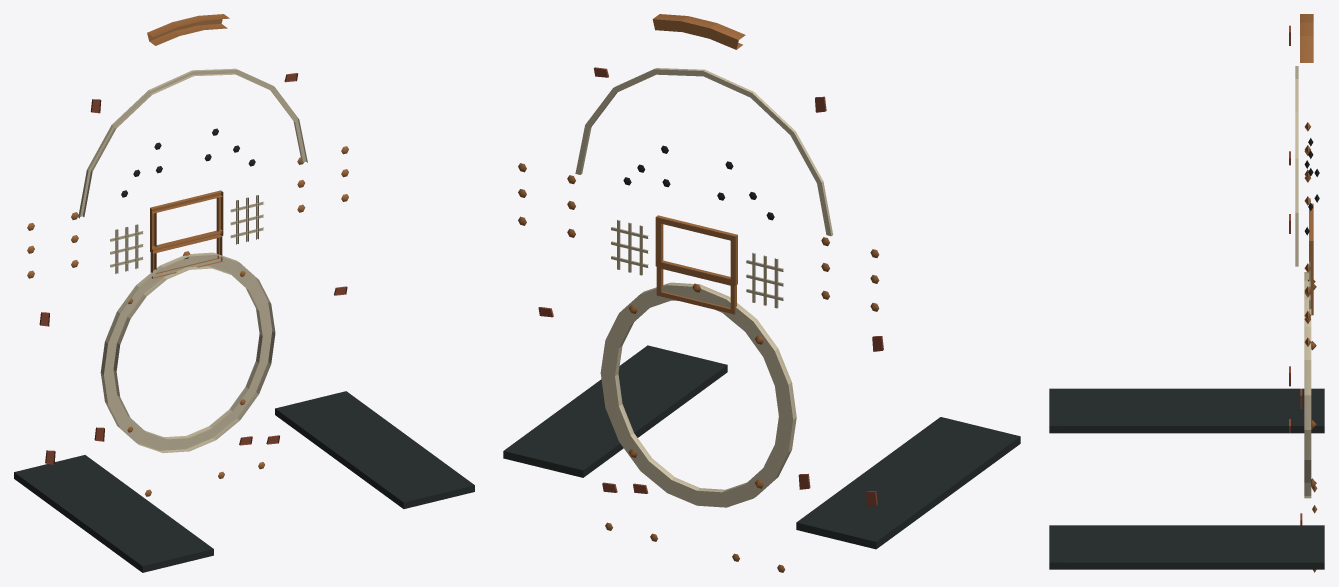
File: moss_jukebox_detail1.glb
The picture shows the model from 3 angles, left to right: view 1: azimuth 30°, elevation 25°; view 2: azimuth 150°, elevation 25°; view 3: azimuth 270°, elevation 25°; orthographic projection. The views are drawn at different scales.
Parts seen in each view (by area): view 1: Detail1; view 2: Detail1; view 3: Detail1.
Part boxes in pixels (box(x1,y1,x2,y2)): Detail1: box(14, 14, 474, 572); Detail1: box(503, 14, 1020, 572); Detail1: box(1049, 14, 1324, 572).
Size of the model in its own units: 1.82 by 2.45 by 1.22.
